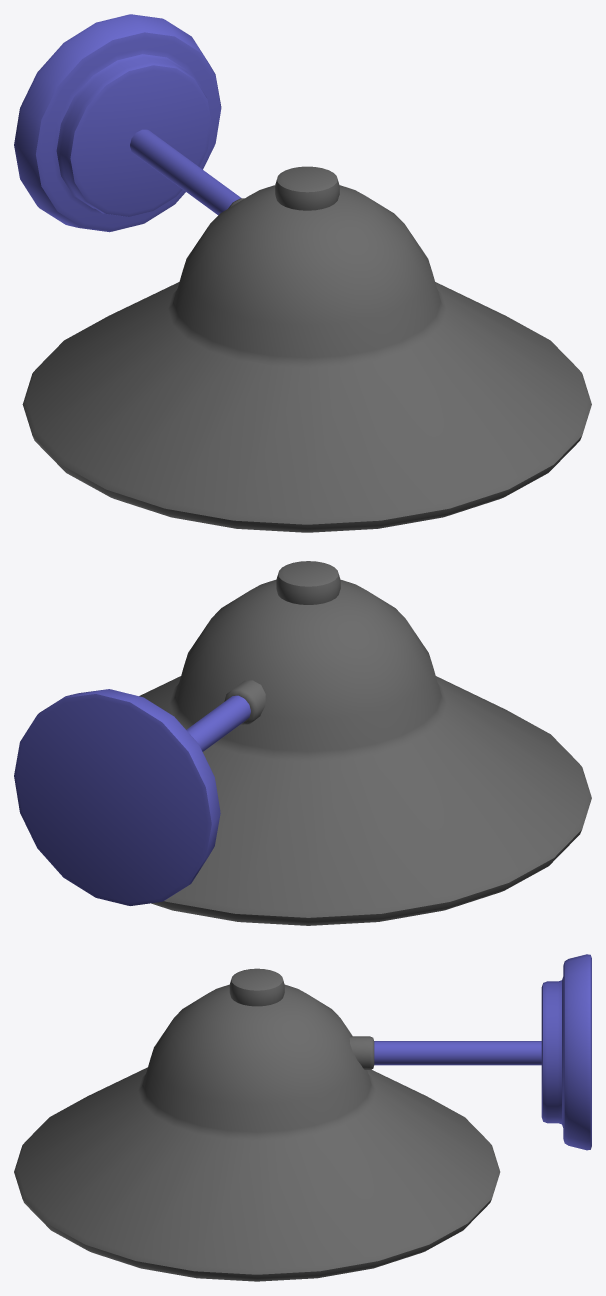
File: SM_lamp_wall_02.fbx
3 views of the same model, one above another, from view 1: azimuth 30°, elevation 25°; view 2: azimuth 150°, elevation 25°; view 3: azimuth 270°, elevation 25° (orthographic). The views are drawn at different scales.
Visible parts, largest first — view 1: Cylinder038; view 2: Cylinder038; view 3: Cylinder038.
Part boxes in pixels (<box>): Cylinder038: <box>14,14,591,532</box>; Cylinder038: <box>14,561,591,925</box>; Cylinder038: <box>14,954,591,1281</box>.
Bounding box in the file's own units: 32.99 × 22.19 × 39.21.
